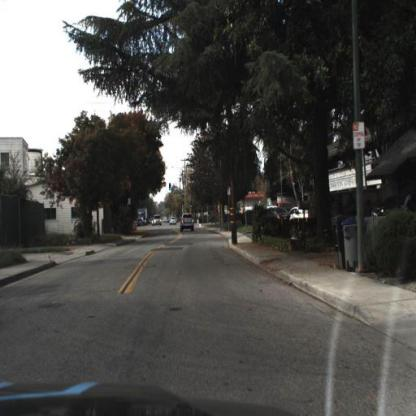car: (258, 207, 289, 235), (181, 209, 197, 235)
